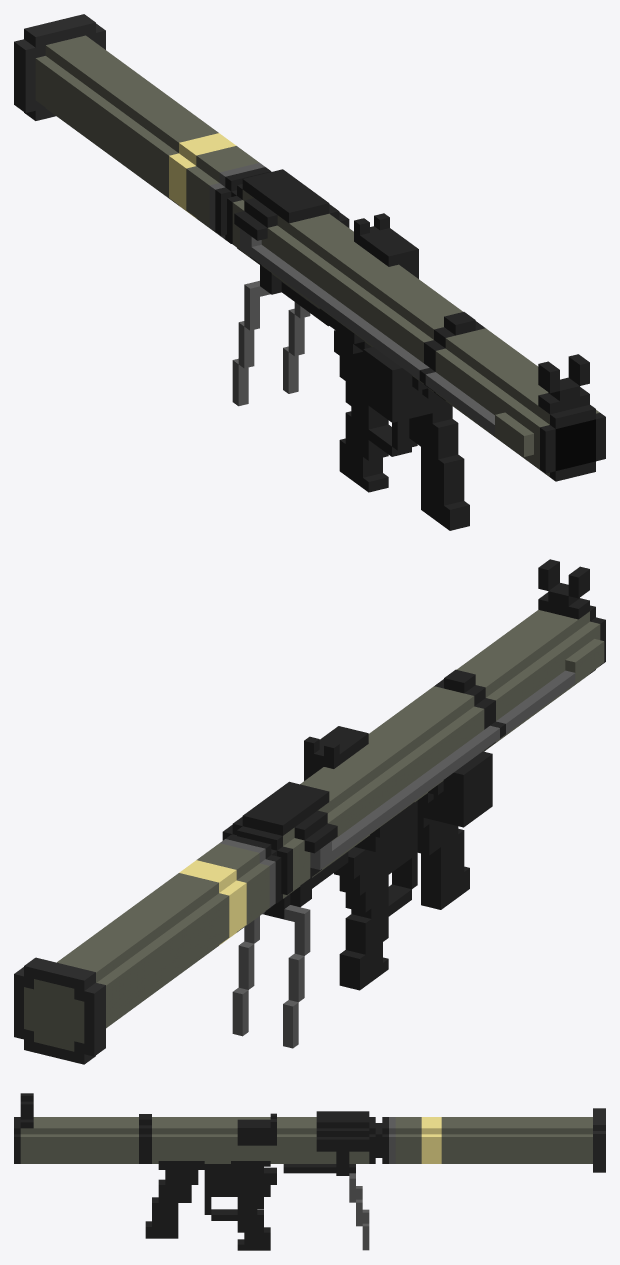
The model's file is RocketLauncher_1.obj.
3 views of the same model, one above another, from view 1: azimuth 30°, elevation 25°; view 2: azimuth 150°, elevation 25°; view 3: azimuth 270°, elevation 25° (orthographic). The views are drawn at different scales.
Size of the model in its own units: 9 by 25 by 90.
